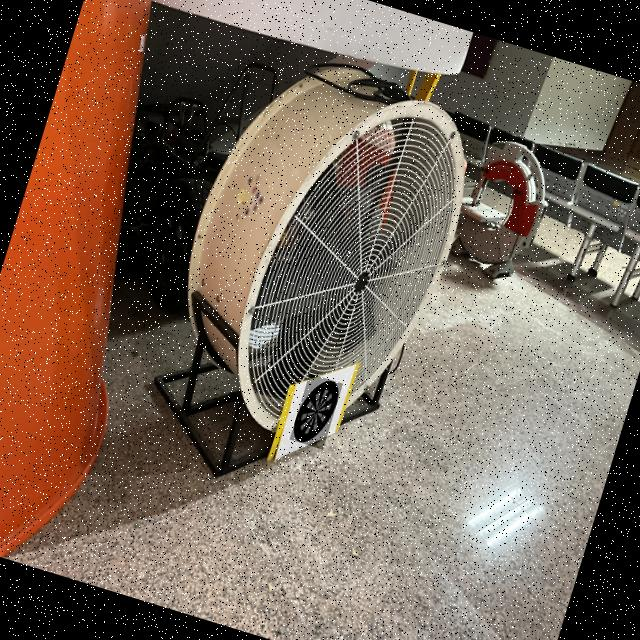archery-targets: (288, 373, 342, 449)
